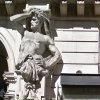Statue: (8, 4, 66, 100)
